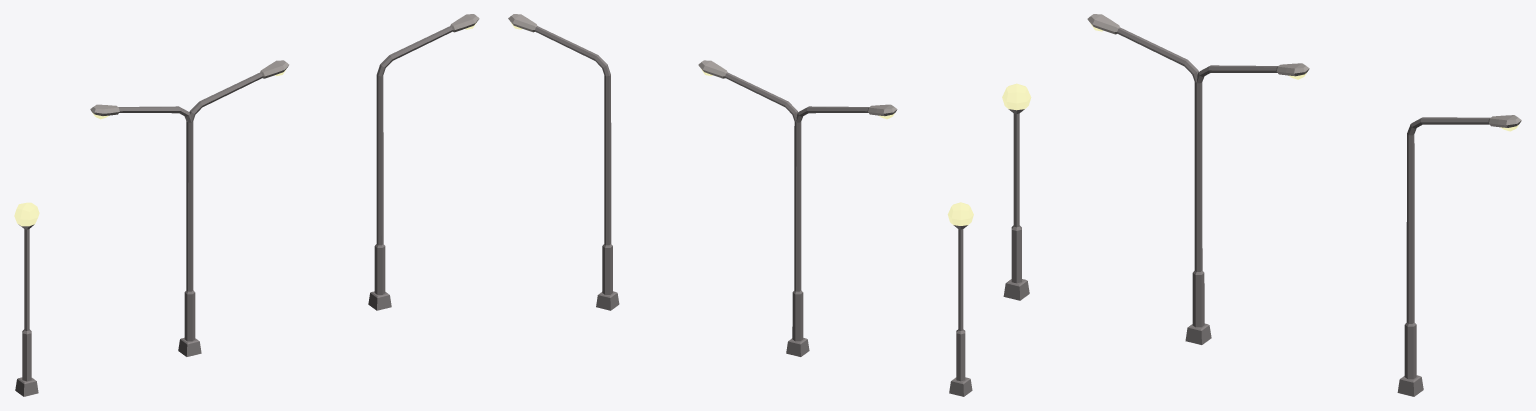
The model's file is StreetLights.glb.
The picture shows the model from 3 angles, left to right: view 1: azimuth 30°, elevation 25°; view 2: azimuth 150°, elevation 25°; view 3: azimuth 330°, elevation 25°; orthographic projection. The views are drawn at different scales.
Parts seen in each view (by area): view 1: lamp-road-double, lamp-road, street-lamp; view 2: lamp-road-double, lamp-road, street-lamp; view 3: lamp-road-double, lamp-road, street-lamp.
Part boxes in pixels (box(x1,y1,x2,y2)): lamp-road-double: box(90, 60, 289, 356); lamp-road: box(368, 14, 479, 310); street-lamp: box(14, 202, 39, 396); lamp-road-double: box(698, 60, 897, 356); lamp-road: box(508, 14, 619, 310); street-lamp: box(947, 202, 973, 396); lamp-road-double: box(1087, 14, 1309, 344); lamp-road: box(1397, 115, 1521, 396); street-lamp: box(1002, 83, 1031, 300).
Bounding box in the file's own units: 17.07 × 9.46 × 0.8121.
